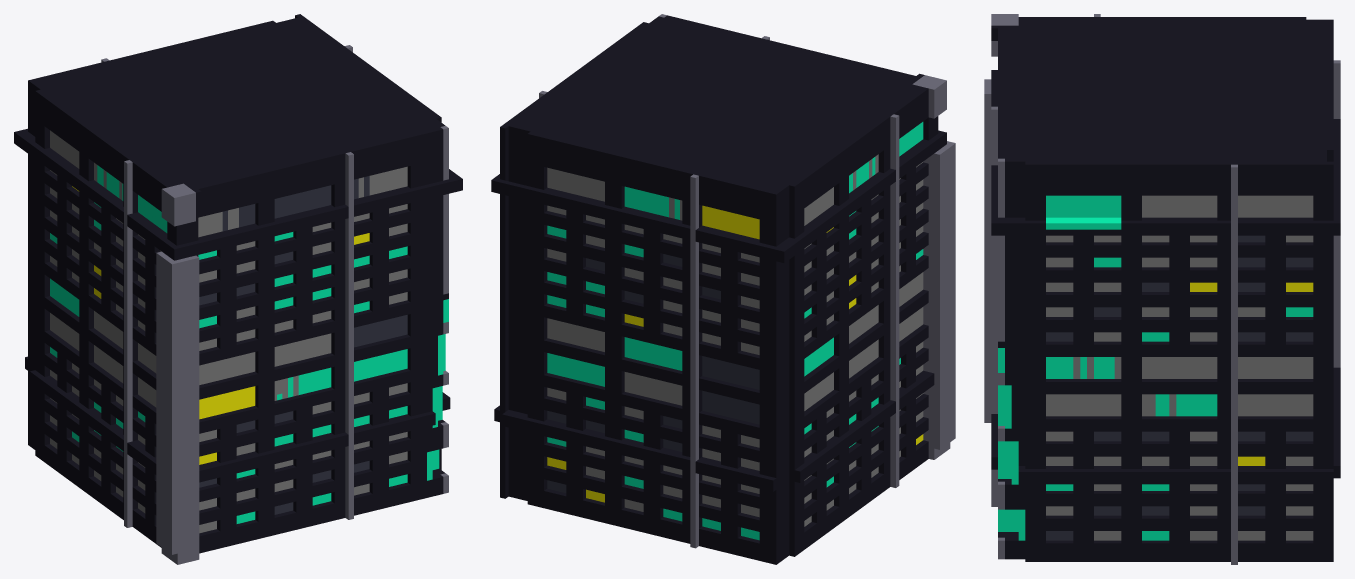
The model's file is LandMark_002.obj.
3 views of the same model, side by side, from view 1: azimuth 30°, elevation 25°; view 2: azimuth 150°, elevation 25°; view 3: azimuth 270°, elevation 25° (orthographic). The views are drawn at different scales.
Bounding box in the file's own units: 5.4 × 6.4 × 5.2.
Materials: 1 (1 with a texture image).
